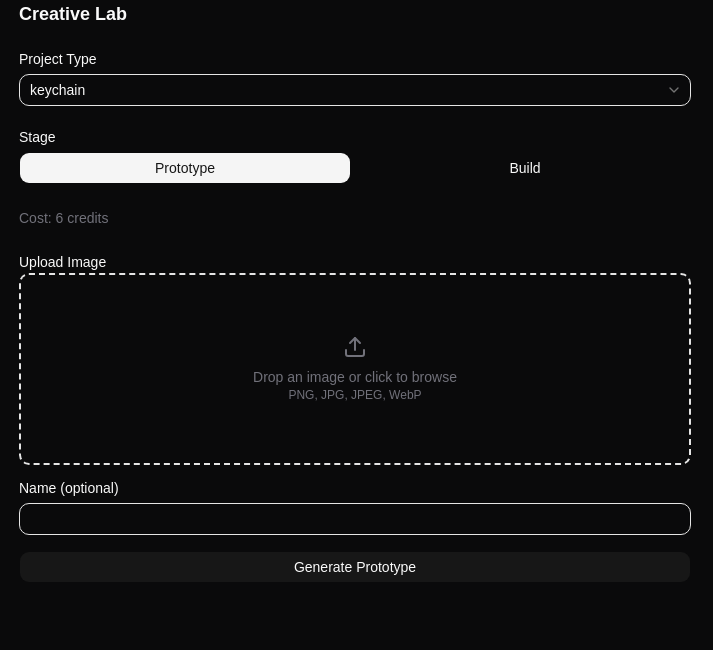
Test: CreativeLabPanel — TC-GEN-02 (Creative Lab) › TC-GEN-02-07: credit cost line reflects the selected product and stage (FR-CLAB-0X-F4/F5)
Expected: the text "Cost: 6 credits" is shown, 19,210 -> 108,226
Click the dropdown named "Project Type".
click(58, 90)  # box 19,74 -> 691,106
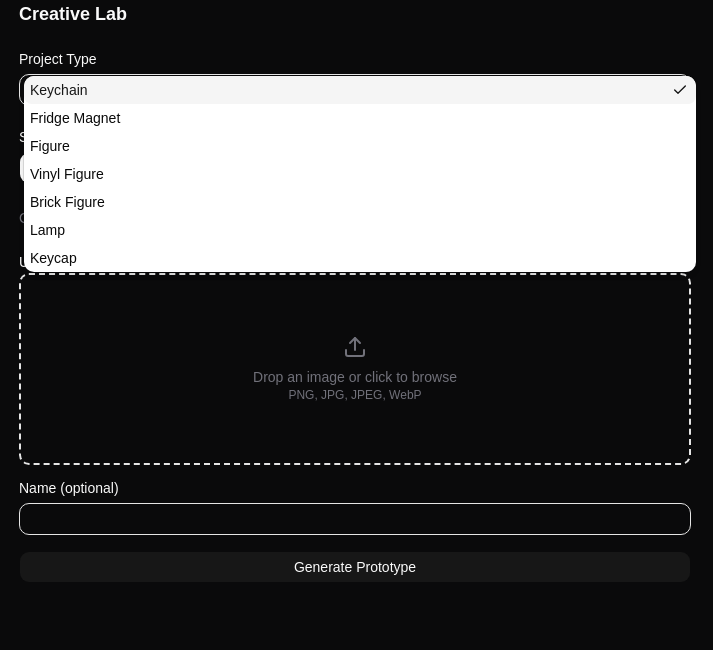
Click the option "Keycap".
click(53, 258)  # box 30,250 -> 77,266
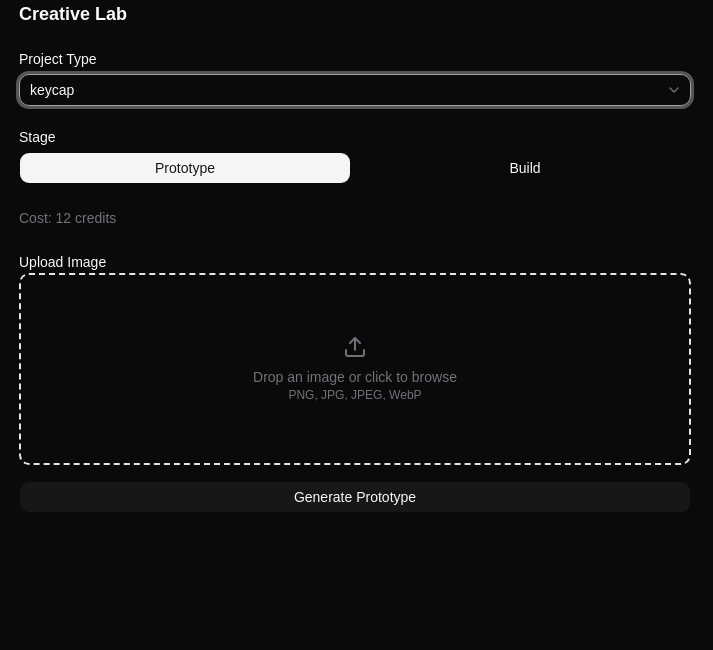
Expected: the text "Cost: 12 credits" is shown, 19,210 -> 116,226
Click the button "Build".
click(525, 168)  # box 359,152 -> 691,184
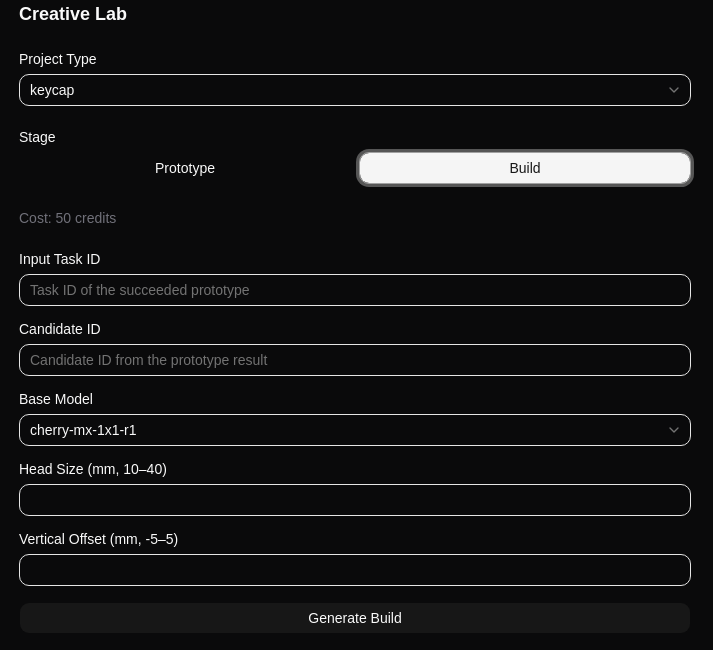
Expected: the text "Cost: 50 credits" is shown, 19,210 -> 116,226
